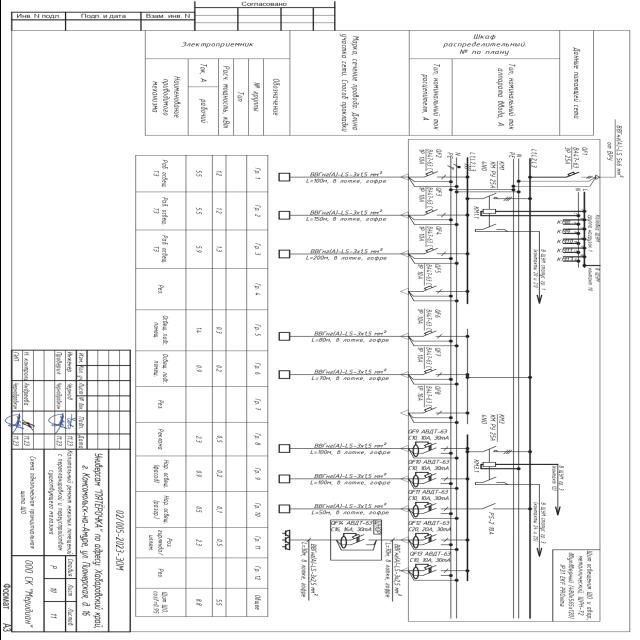-: (557, 550, 595, 620), (406, 428, 449, 442), (407, 488, 450, 502), (406, 458, 449, 472), (408, 550, 450, 564), (408, 519, 450, 533), (478, 413, 496, 443), (415, 148, 433, 174), (479, 160, 495, 189), (414, 186, 432, 210), (414, 308, 432, 332), (414, 264, 432, 288), (416, 225, 433, 249), (416, 346, 432, 371), (415, 385, 431, 409), (562, 146, 578, 170), (486, 512, 496, 538), (470, 206, 480, 220), (472, 458, 479, 474)
ITU: (481, 208, 497, 214), (481, 462, 496, 468)
KM: (481, 192, 499, 230), (481, 445, 498, 485)
QF: (420, 368, 438, 376), (421, 407, 439, 415), (564, 172, 582, 180), (422, 170, 440, 178), (423, 208, 441, 216), (421, 285, 439, 293), (421, 330, 439, 338), (422, 248, 440, 255)
QFD: (412, 532, 442, 550), (412, 471, 442, 488), (412, 563, 442, 580), (411, 442, 441, 458), (412, 502, 442, 518)
R: (479, 502, 497, 510)
